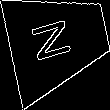N_E: (34, 15, 83, 67)
